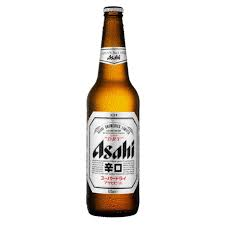glass_bottle: (81, 4, 144, 219)
